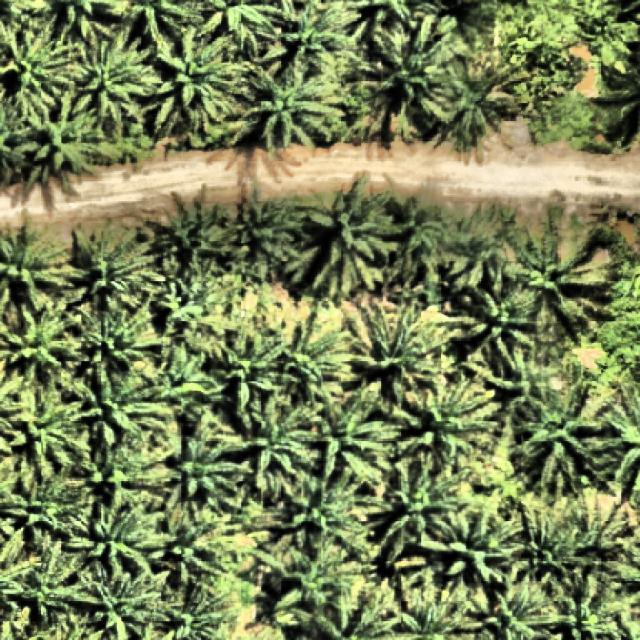Kelapa_Sawit: (492, 202, 620, 346), (510, 361, 607, 507), (339, 294, 452, 418), (303, 172, 405, 300), (368, 450, 477, 567), (264, 464, 386, 564), (148, 24, 248, 144), (393, 370, 501, 478), (418, 486, 527, 592), (62, 489, 176, 588), (364, 11, 460, 128), (62, 432, 178, 528), (66, 293, 169, 401), (310, 376, 398, 498), (236, 55, 347, 151), (64, 364, 172, 458), (146, 514, 265, 598), (162, 417, 256, 520), (62, 218, 166, 310), (66, 26, 154, 134), (563, 488, 640, 610), (436, 50, 527, 153), (157, 184, 245, 284), (232, 398, 320, 498), (278, 308, 358, 414), (474, 328, 562, 424), (270, 536, 378, 612), (18, 97, 100, 197), (508, 498, 590, 594), (382, 180, 449, 296), (228, 184, 304, 284), (450, 284, 541, 366), (216, 324, 292, 418), (130, 341, 227, 414), (443, 199, 512, 299)
